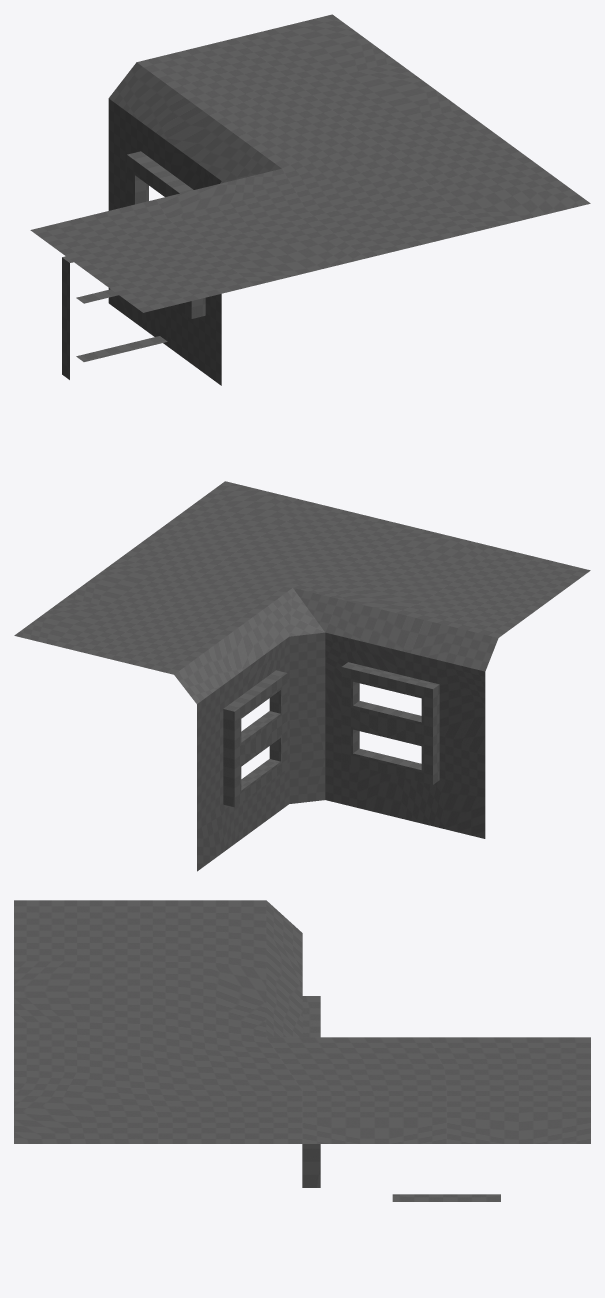
3 views of the same model, one above another, from view 1: azimuth 30°, elevation 25°; view 2: azimuth 150°, elevation 25°; view 3: azimuth 270°, elevation 25° (orthographic). The views are drawn at different scales.
Parts seen in each view (by area): view 1: 2; view 2: 2; view 3: 2.
Boxes of the visible parts, x1,y1,x2,y2 form: 2: (30,14,590,385); 2: (14,481,590,871); 2: (14,900,590,1201).
Size of the model in its own units: 4 by 2 by 4.
Materials: 2 (2 with a texture image).
